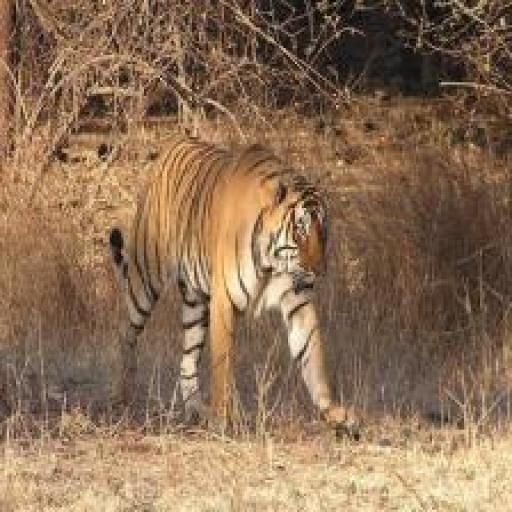Tiger: (91, 126, 375, 467)
